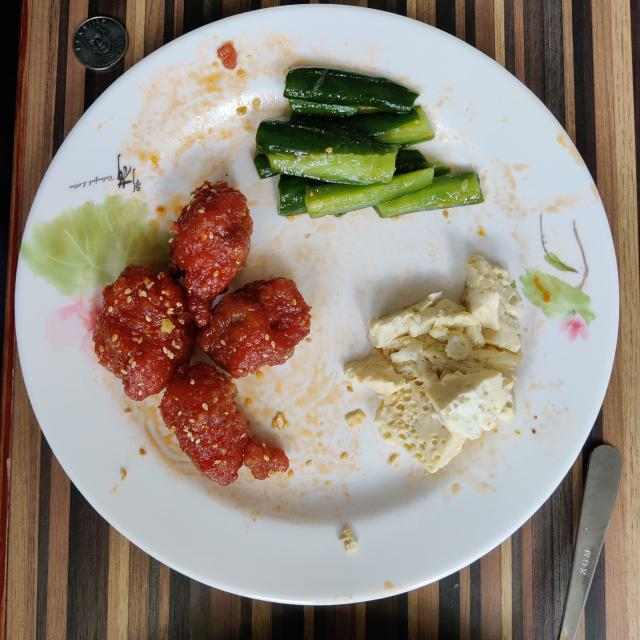coin: (72, 16, 128, 70)
cucumber: (254, 68, 482, 218)
